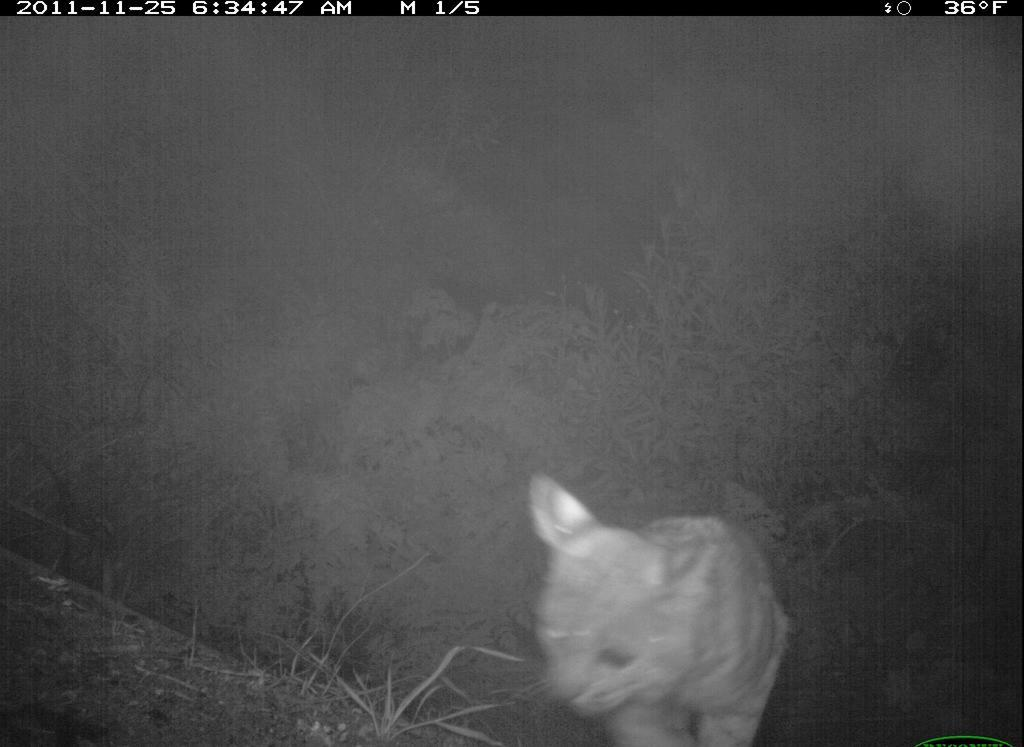bobcat: (516, 459, 817, 745)
